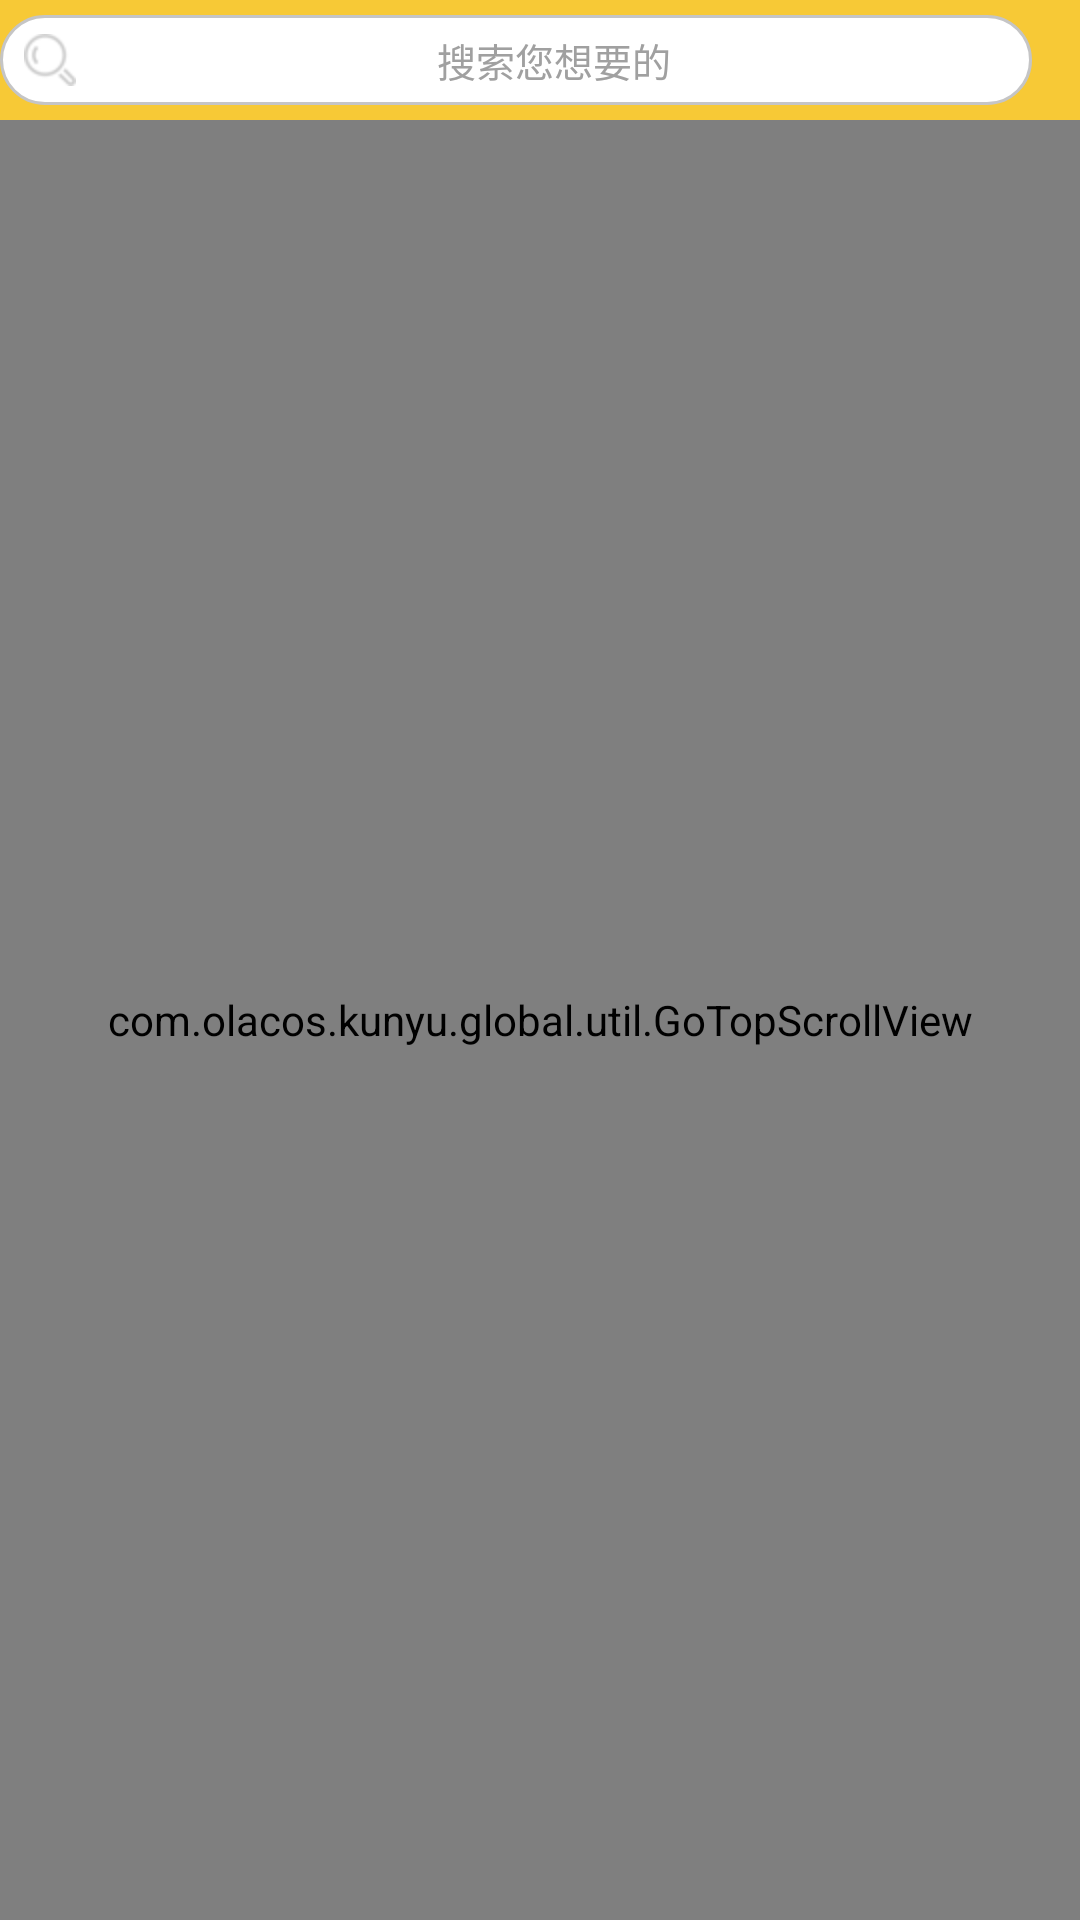

Point at icon controls on the screen. Image size 1080 × 1920, points as point (x, y).
find shape: point (50, 60)
